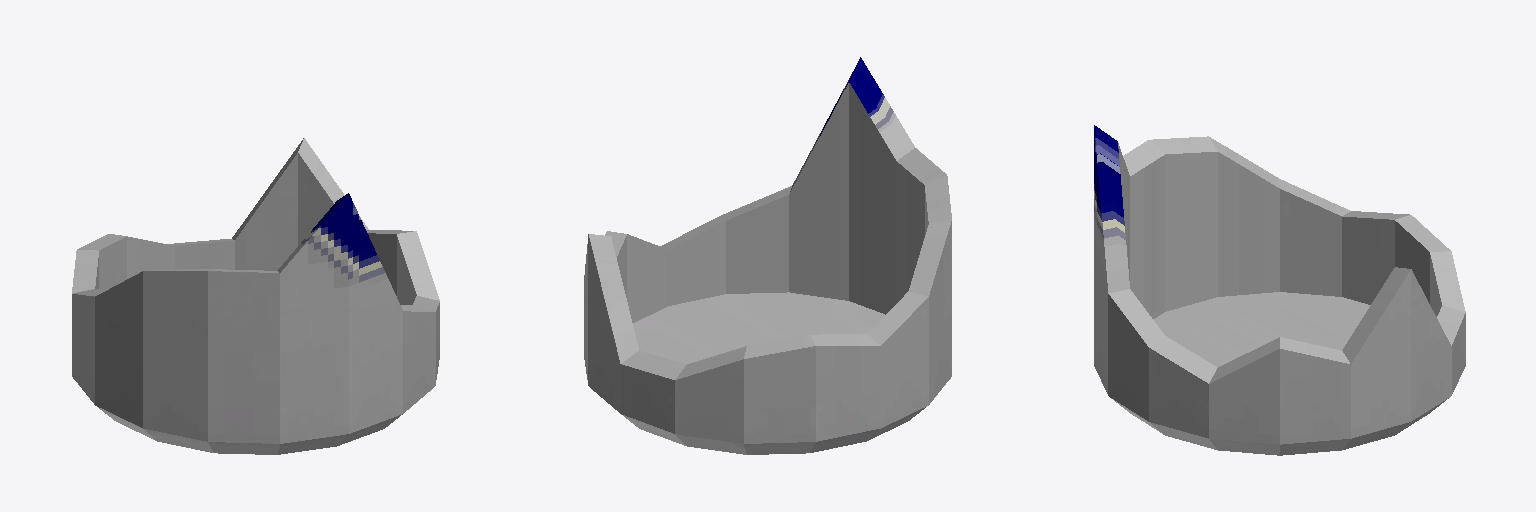
The picture shows the model from 3 angles: view 1: azimuth 30°, elevation 25°; view 2: azimuth 150°, elevation 25°; view 3: azimuth 270°, elevation 25°; orthographic projection.
Visible parts, largest first — view 1: VodkaShardBottom; view 2: VodkaShardBottom; view 3: VodkaShardBottom.
Part boxes in pixels (left/top/right/bottom): VodkaShardBottom: left=72, top=138, right=439, bottom=454; VodkaShardBottom: left=584, top=57, right=951, bottom=454; VodkaShardBottom: left=1094, top=125, right=1465, bottom=455.
Size of the model in its own units: 11.2 by 8.73 by 11.2.
Materials: 1 (1 with a texture image).